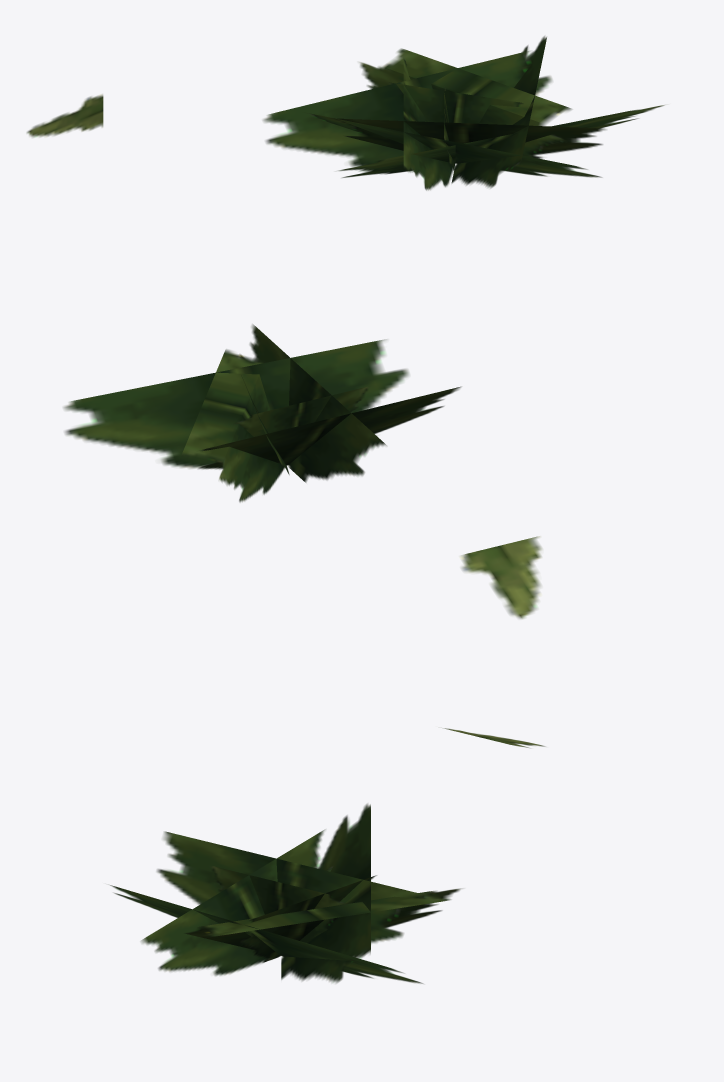
File: lp_bush_c_low.glb
3 views of the same model, one above another, from view 1: azimuth 30°, elevation 25°; view 2: azimuth 150°, elevation 25°; view 3: azimuth 270°, elevation 25° (orthographic). The views are drawn at different scales.
Parts seen in each view (by area): view 1: lp_bush_c_low; view 2: lp_bush_c_low; view 3: lp_bush_c_low.
Boxes of the visible parts, x1,y1,x2,y2 form: lp_bush_c_low: (26, 36, 664, 190); lp_bush_c_low: (63, 324, 541, 619); lp_bush_c_low: (110, 728, 545, 983).
Bounding box in the file's own units: 0.4043 × 0.037 × 0.3481.
Materials: 1 (1 with a texture image).
